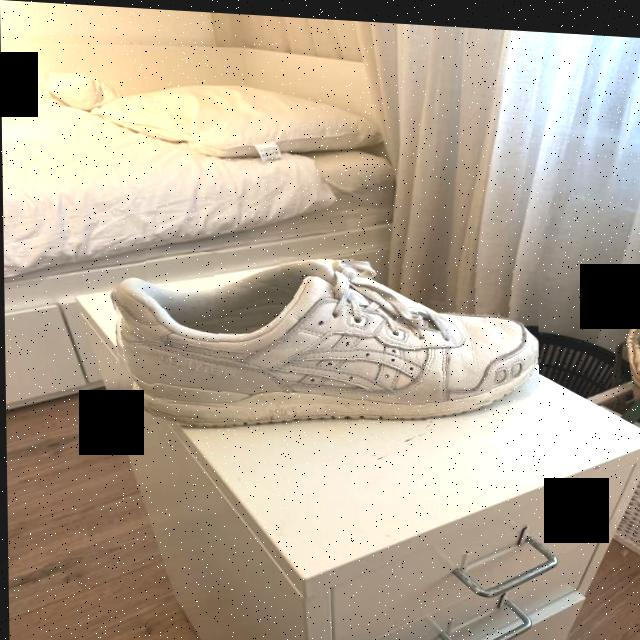shoe: (110, 245, 539, 441)
